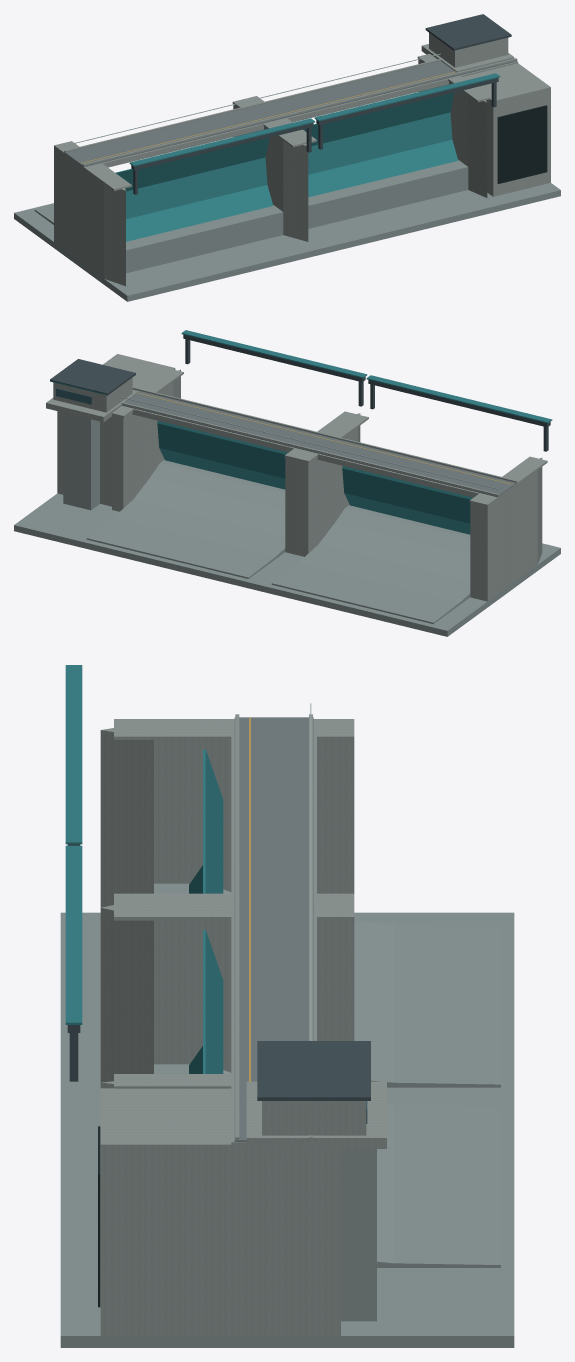
File: Dam_Module75_LOD2.fbx
3 renders of one model, top to bottom at view 1: azimuth 30°, elevation 25°; view 2: azimuth 150°, elevation 25°; view 3: azimuth 270°, elevation 25°, orthographic. The views are drawn at different scales.
Visible parts, largest first — view 1: Dam_Module75_LOD2; view 2: Dam_Module75_LOD2; view 3: Dam_Module75_LOD2.
Boxes of the visible parts, <box> form: Dam_Module75_LOD2: <box>14,14,560,301</box>; Dam_Module75_LOD2: <box>14,330,560,636</box>; Dam_Module75_LOD2: <box>60,665,514,1347</box>.
Size of the model in its own units: 7500 by 2208 by 3400.
Materials: 9 (1 with a texture image).
